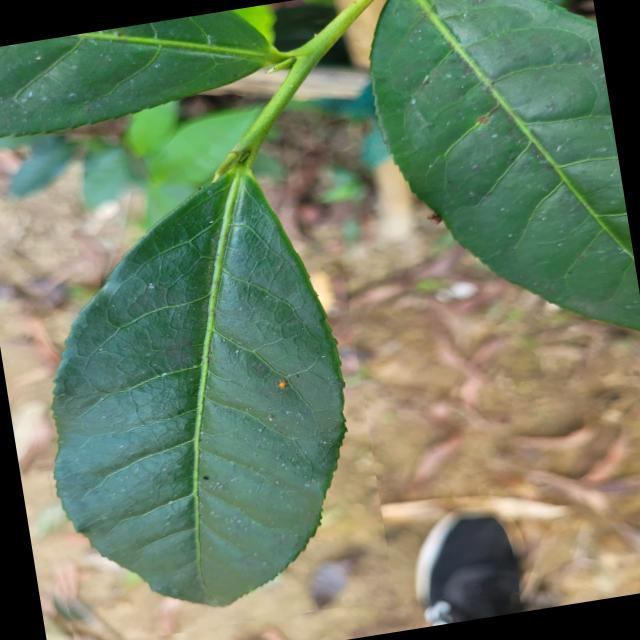Category D(7+ days, Not for Tea): (0, 134, 396, 640)
